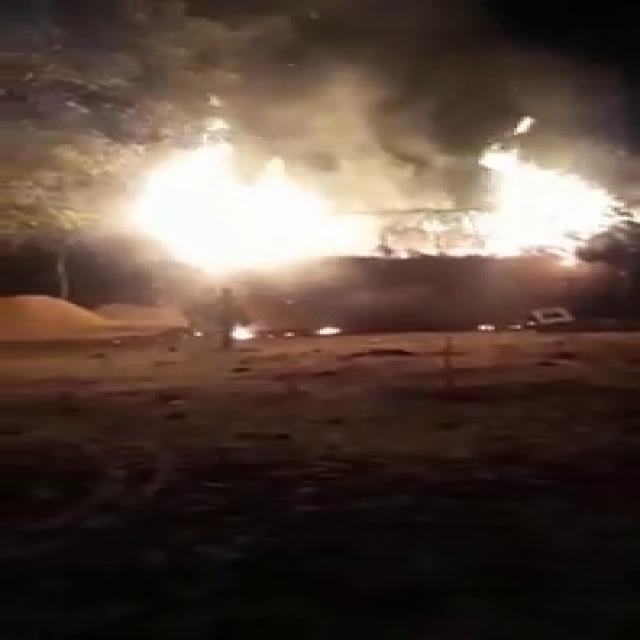Fire: (123, 121, 388, 279), (433, 109, 627, 264), (226, 320, 259, 340)
Smoke: (152, 18, 617, 184), (256, 50, 424, 162)
